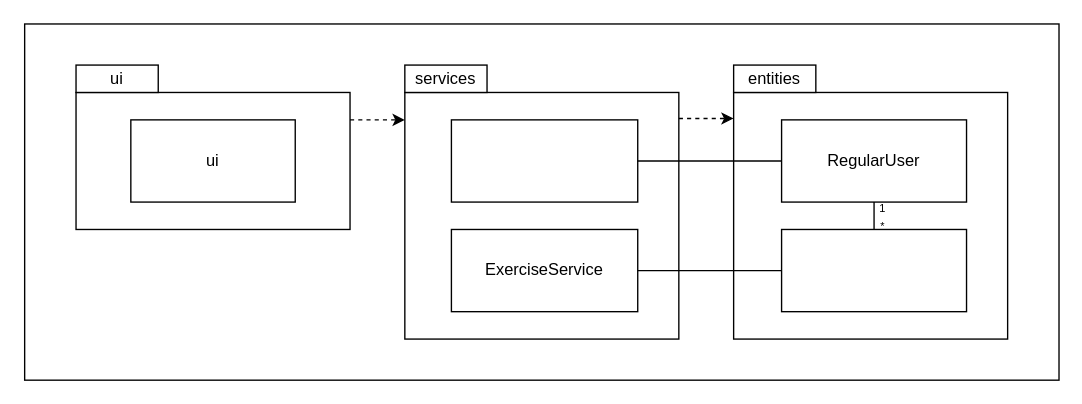
This 1082x404 diagram has some shape labels left out. Each missing label, with the centre of its shape:
Exercise: pixel 873 270
UserService: pixel 544 160
